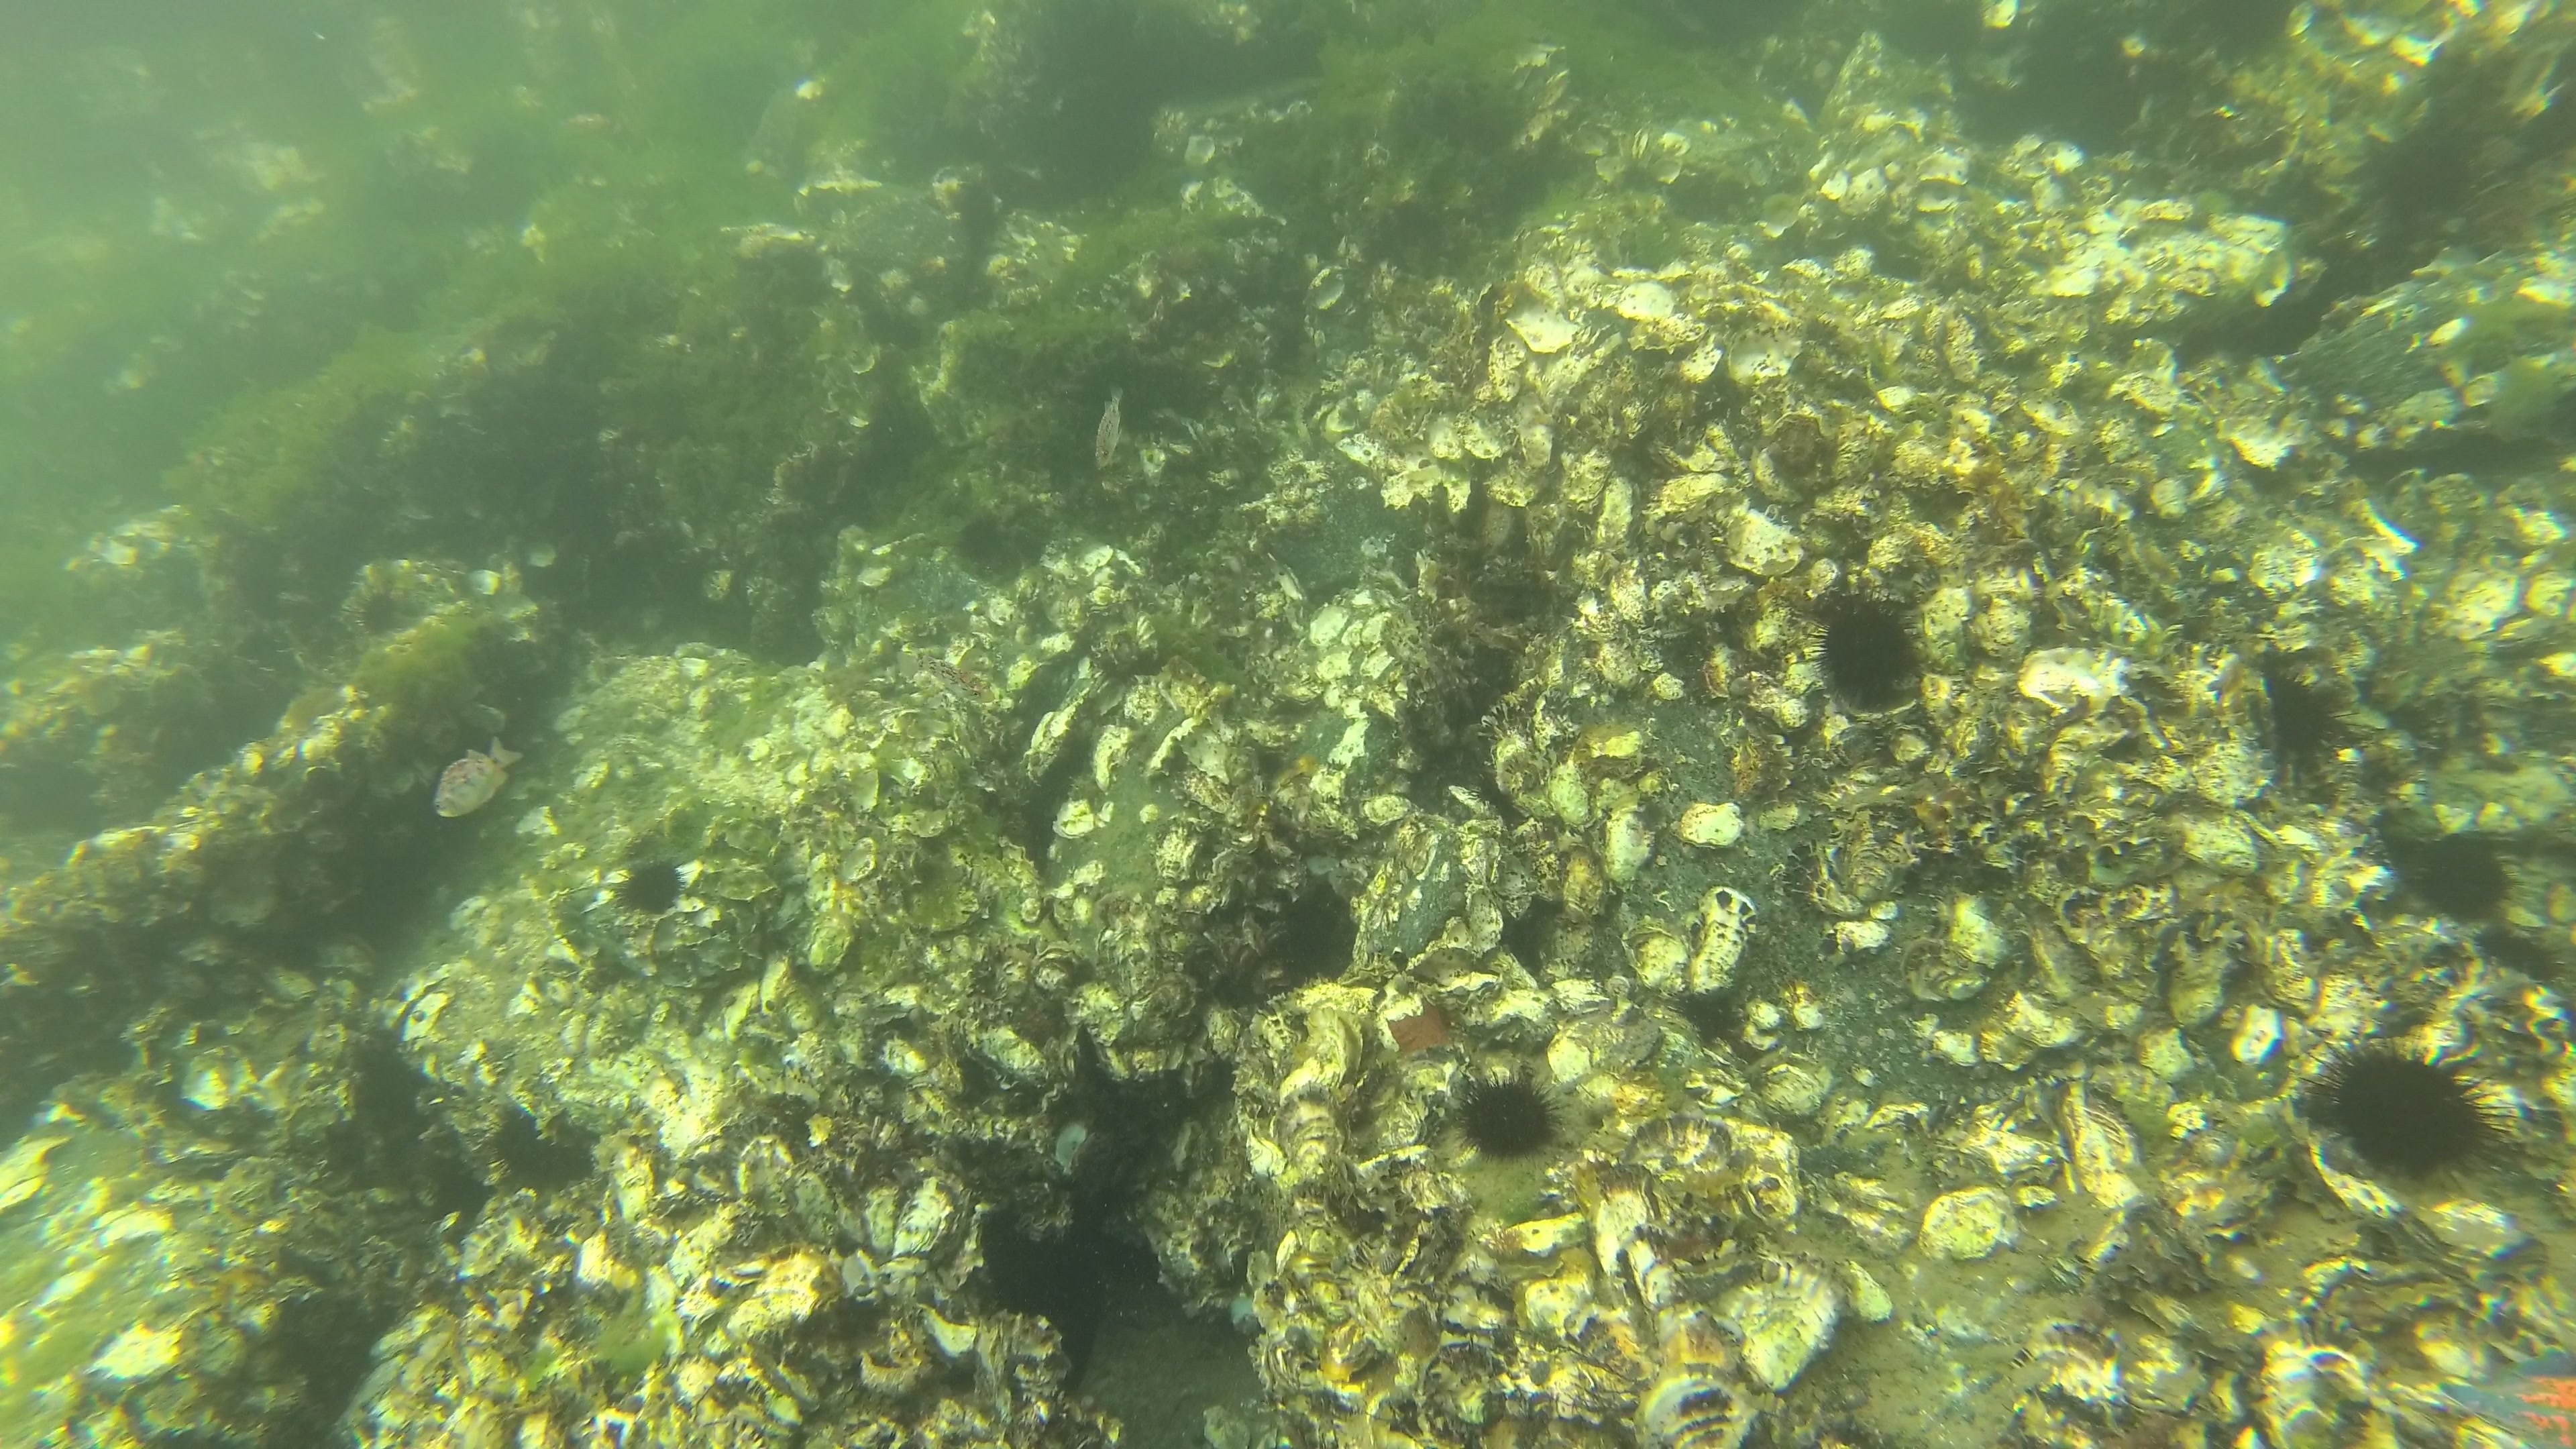echinus: (2282, 1016, 2523, 1191), (1782, 573, 1937, 725), (1435, 1054, 1576, 1177), (476, 1097, 598, 1207), (2259, 653, 2353, 777), (2411, 828, 2521, 925), (407, 1129, 492, 1233), (602, 849, 699, 924), (2484, 918, 2557, 987)
starfish: (2434, 1332, 2574, 1449)
